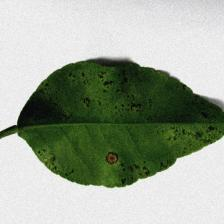canker: (74, 71, 182, 167)
